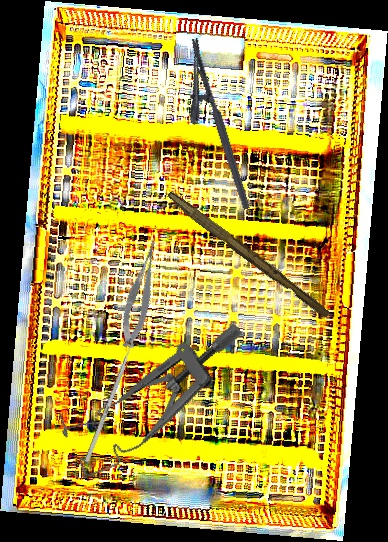Micro Scissor: (111, 237, 172, 351)
Needle Holder: (167, 37, 251, 218)
Pusher: (84, 330, 139, 463)
Scalpel Handle: (162, 190, 334, 320)
Speculum: (48, 320, 270, 481)
